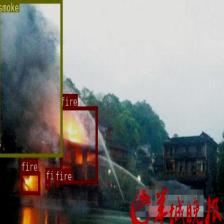fire: (60, 106, 98, 183), (21, 171, 39, 194), (45, 180, 49, 188), (55, 180, 59, 186)
smoke: (0, 0, 62, 156)
